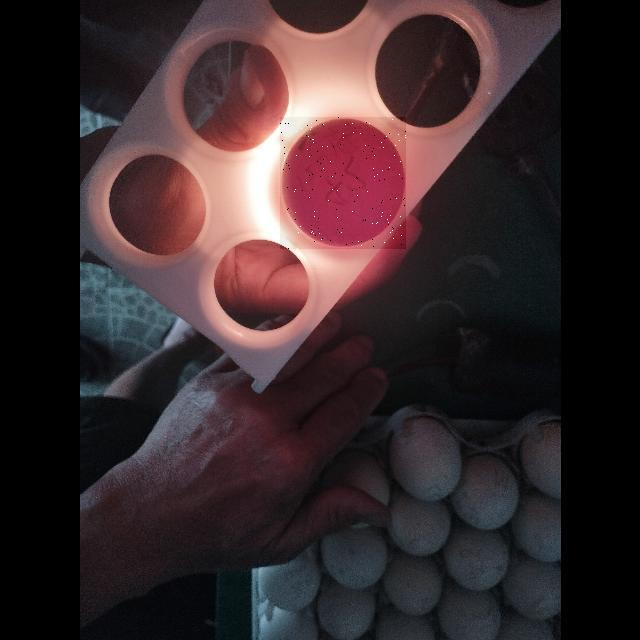Infertile: (280, 117, 406, 249)
